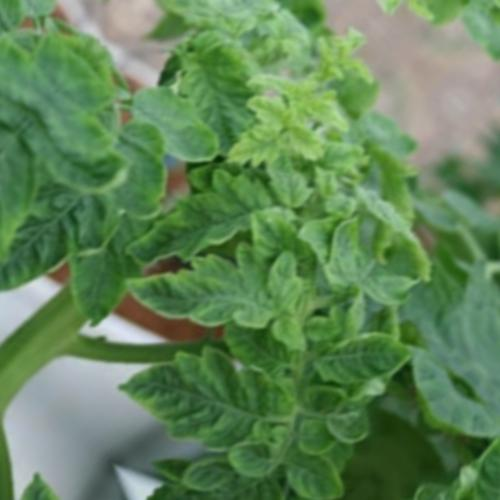Tomato leaf mosaic virus: (120, 205, 313, 397), (113, 302, 301, 490), (142, 11, 302, 169), (128, 144, 283, 303), (0, 171, 113, 317), (307, 302, 422, 418), (119, 72, 233, 186), (232, 189, 331, 288), (303, 209, 397, 304), (270, 435, 352, 500)
